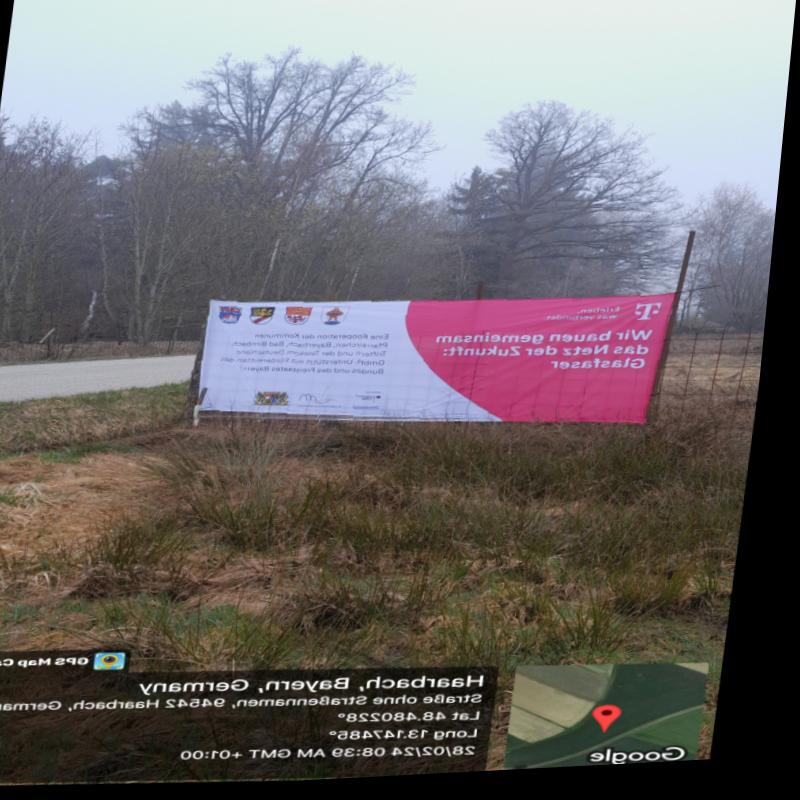Banner: (214, 299, 680, 426)
